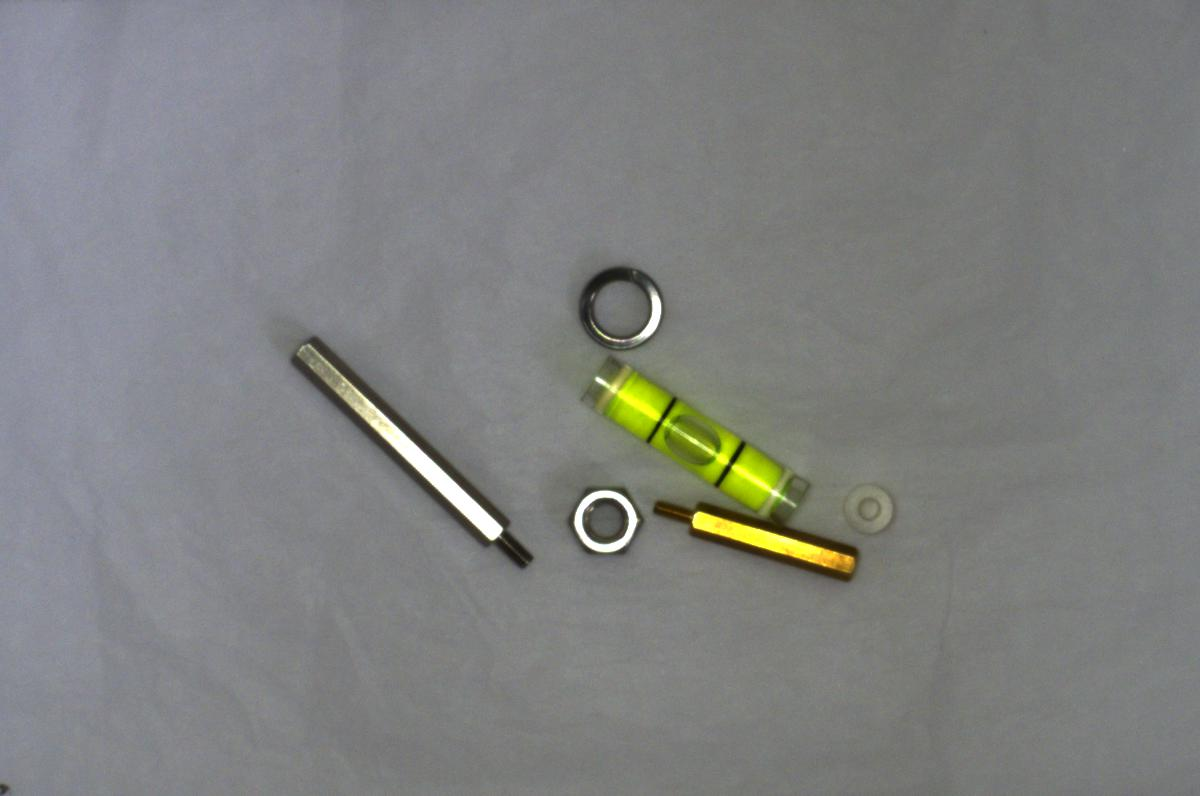Hexagon nut: (554, 473, 651, 562)
Hexagon pillar: (650, 494, 865, 587)
Hexagonal steel column: (288, 333, 544, 575)
Horizontal bubble: (575, 360, 814, 520)
Plastic cushion pillar: (833, 475, 907, 542)
Spring washer: (573, 255, 668, 356)
